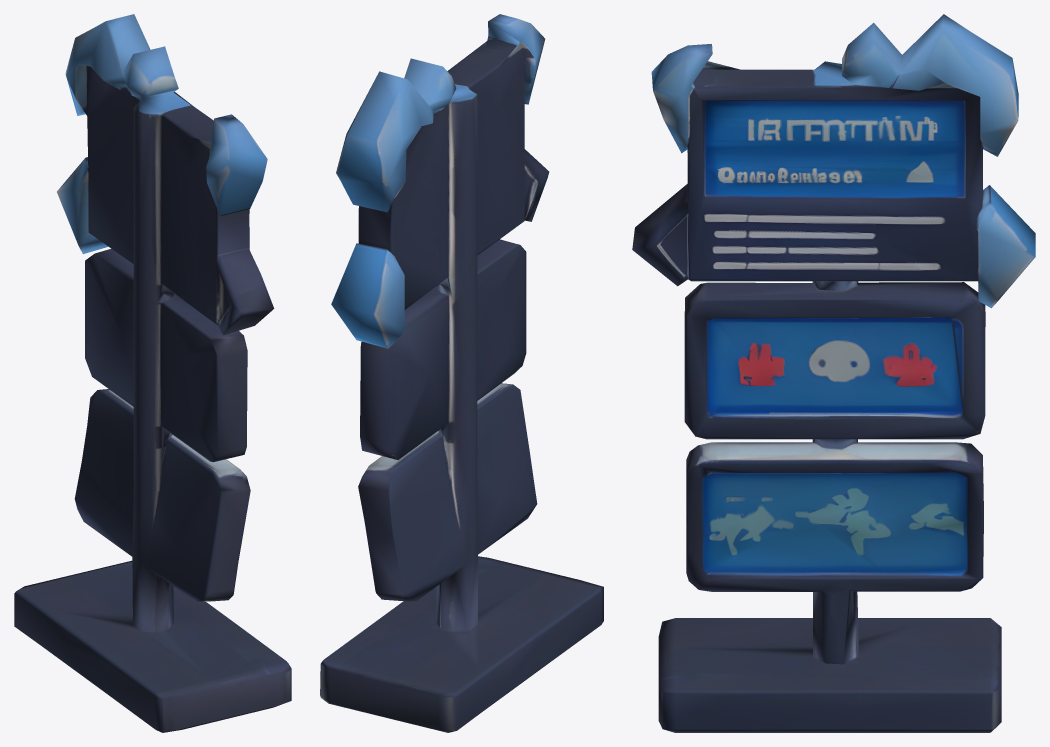
The model's file is SM_Prop_InfoBoard_01.glb.
3 views of the same model, side by side, from view 1: azimuth 30°, elevation 25°; view 2: azimuth 150°, elevation 25°; view 3: azimuth 270°, elevation 25° (orthographic). The views are drawn at different scales.
Parts seen in each view (by area): view 1: tripo_node_d43f86ff-68d2-43b3-ab72-01a7ed971197; view 2: tripo_node_d43f86ff-68d2-43b3-ab72-01a7ed971197; view 3: tripo_node_d43f86ff-68d2-43b3-ab72-01a7ed971197.
Boxes of the visible parts, bbox=[...] form: tripo_node_d43f86ff-68d2-43b3-ab72-01a7ed971197: bbox=[14, 14, 291, 732]; tripo_node_d43f86ff-68d2-43b3-ab72-01a7ed971197: bbox=[320, 14, 603, 732]; tripo_node_d43f86ff-68d2-43b3-ab72-01a7ed971197: bbox=[632, 14, 1035, 732].
Bounding box in the file's own units: 0.2303 × 1 × 0.5317.
1 material, 1 textured.
